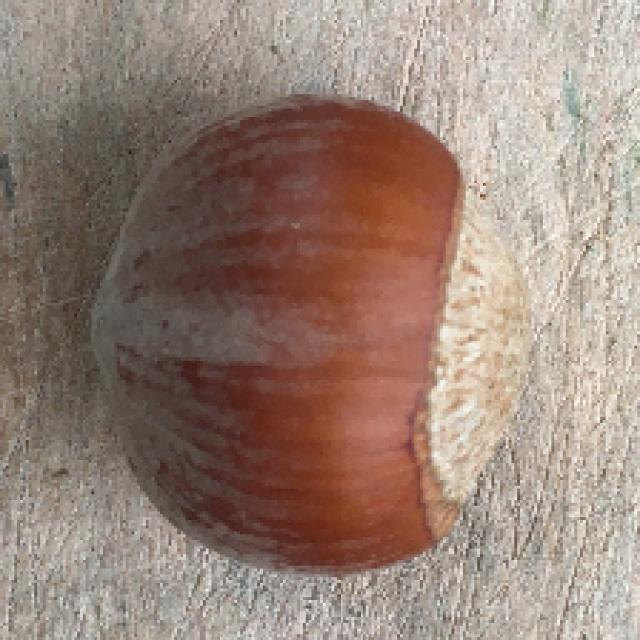qualityHazelnut: (83, 91, 541, 575)
